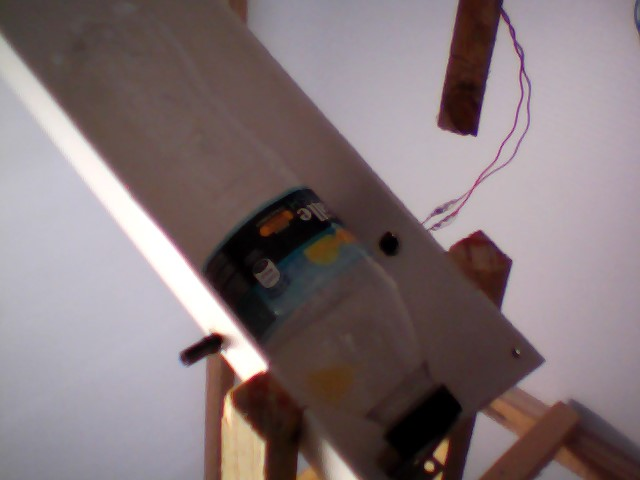plastico: (49, 2, 468, 466)
